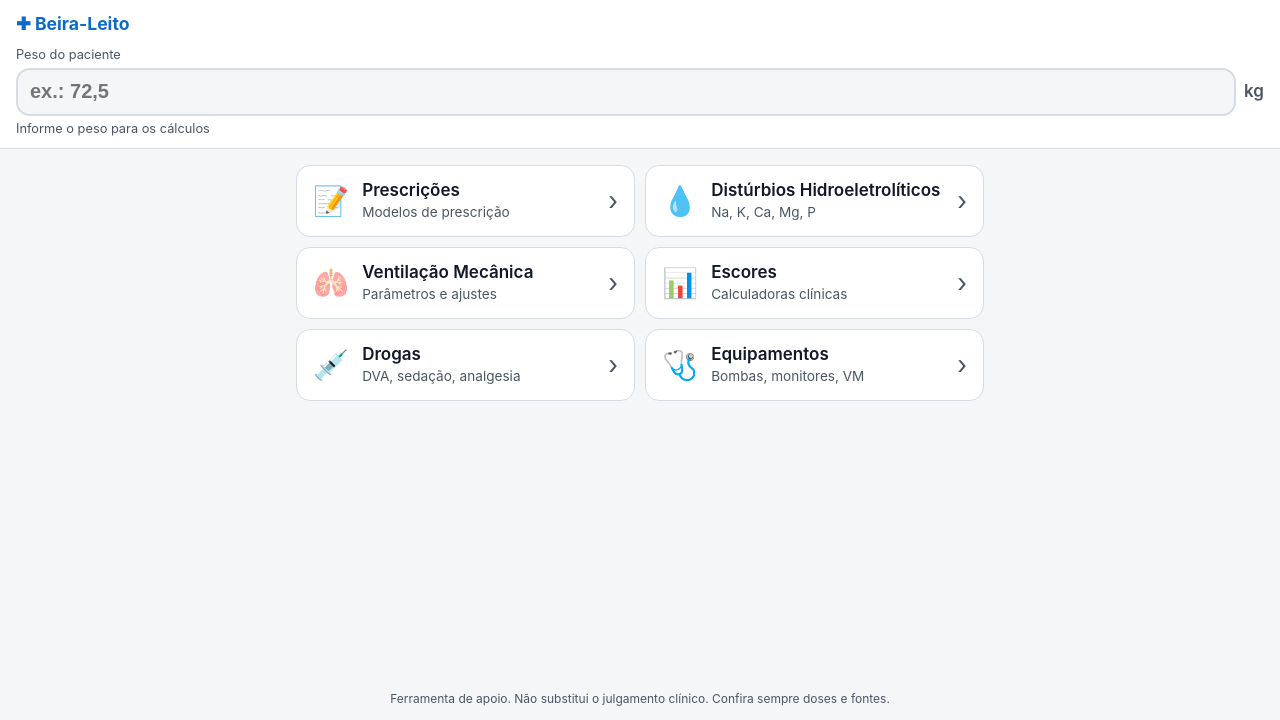
Test: página inicial › abre a página "Drogas"
Click the link "💉 Drogas DVA, sedação, analgesia ›" at (331, 364), box [296,329,635,401]
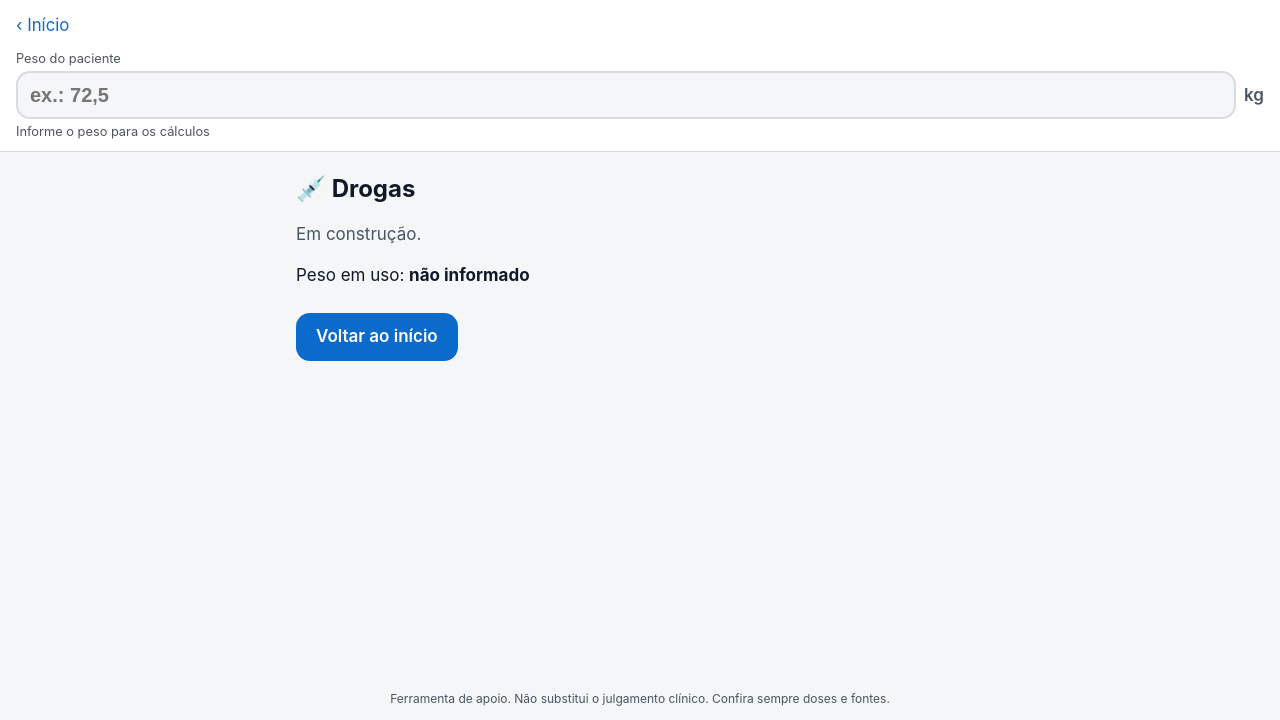
Expected: the heading shows "Drogas", [332,174,415,203]
Expected: the text "Em construção." is shown, [296,224,421,244]
